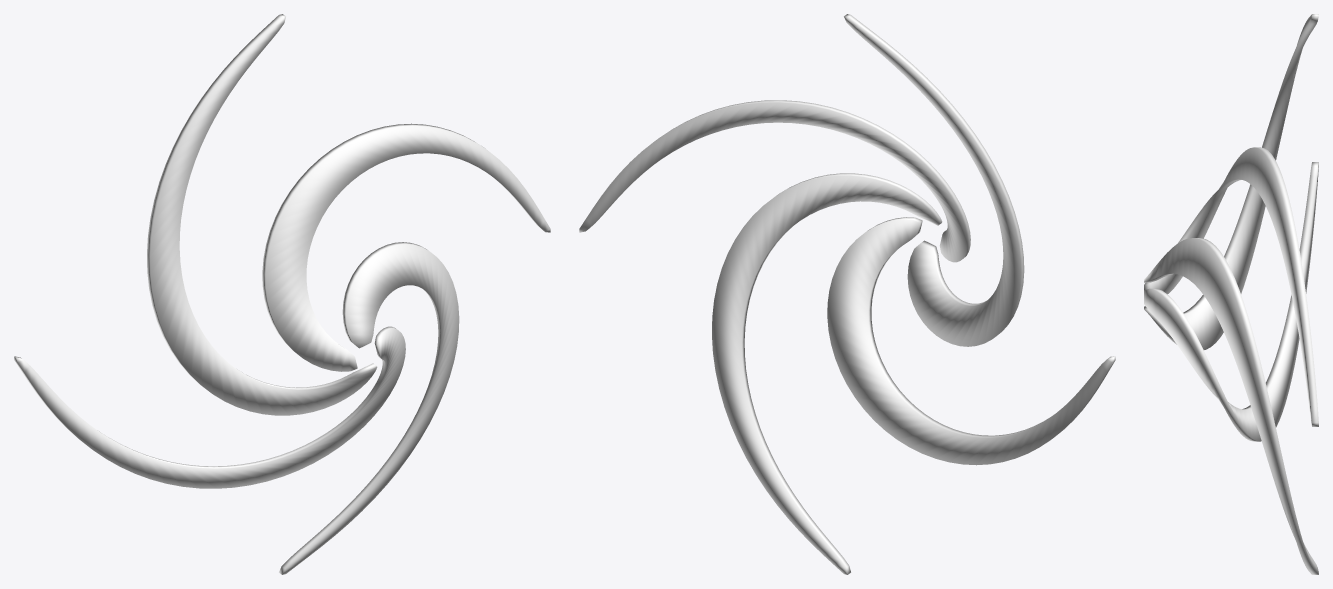
Rendered from AlienPortalSwirl.fbx.
3 views of the same model, side by side, from view 1: azimuth 30°, elevation 25°; view 2: azimuth 150°, elevation 25°; view 3: azimuth 270°, elevation 25° (orthographic).
Parts seen in each view (by area): view 1: AlienPortalSwirl; view 2: AlienPortalSwirl; view 3: AlienPortalSwirl.
Part boxes in pixels (x1,y1,x2,y2): AlienPortalSwirl: [14, 14, 550, 574]; AlienPortalSwirl: [579, 14, 1115, 574]; AlienPortalSwirl: [1144, 14, 1318, 574].
Size of the model in its own units: 5.4 by 5.4 by 1.53.
Materials: 1 (1 with a texture image).
